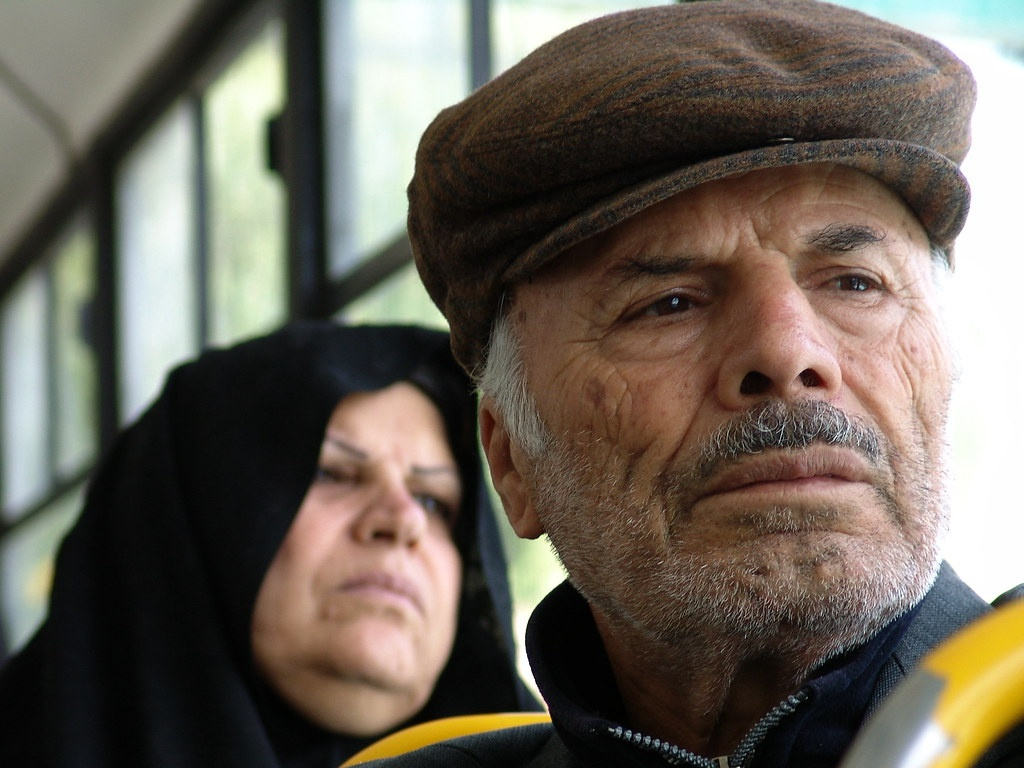without_mask: (483, 203, 967, 641)
